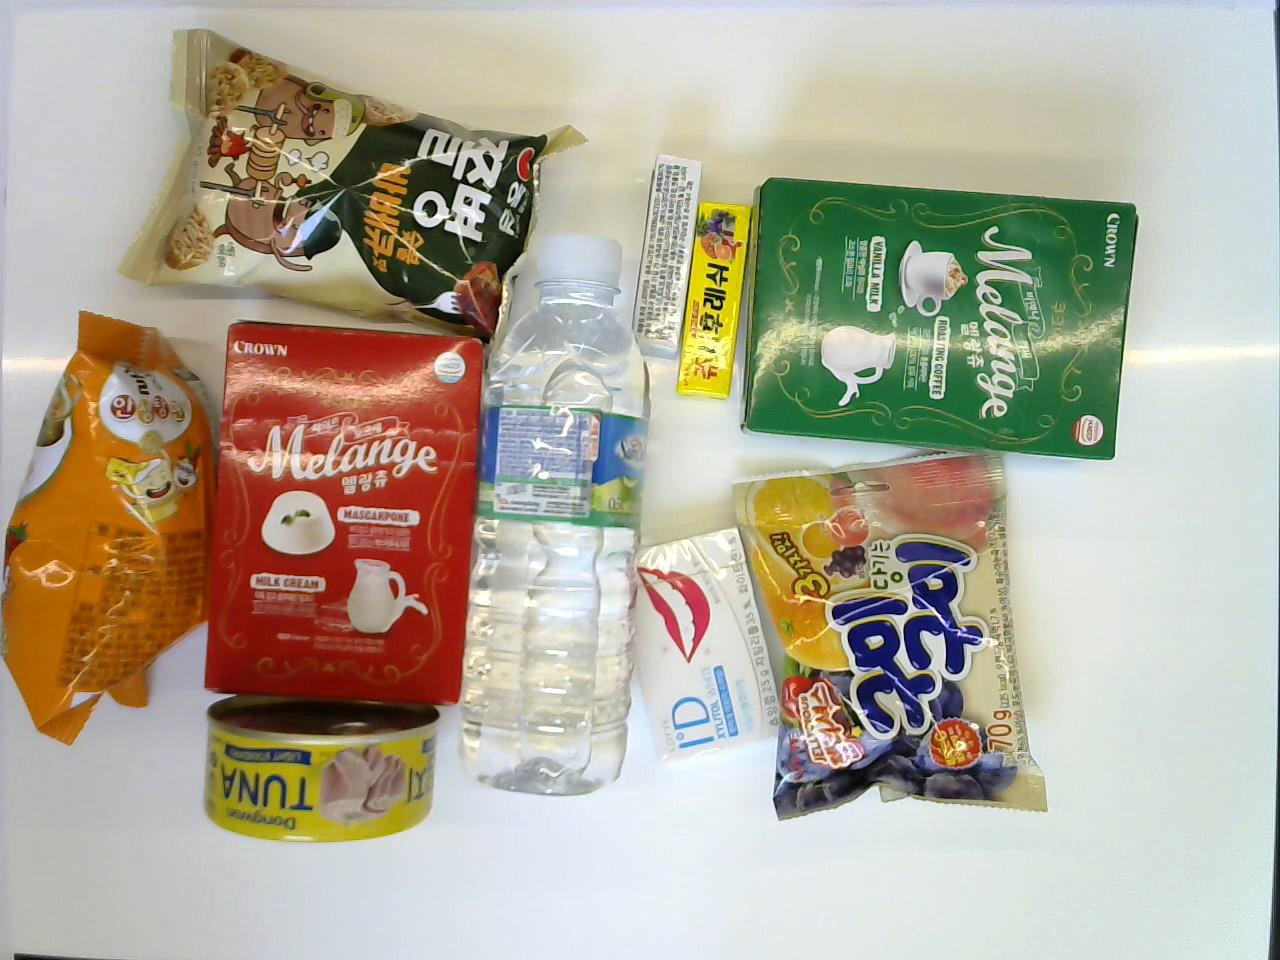ID_gum: (615, 524, 784, 770)
couque_coffee: (739, 174, 1140, 462)
couque_white: (202, 317, 483, 708)
gumi_gumi: (726, 445, 1048, 822)
jjolbyung_noodle: (2, 308, 234, 745)
jjolbyung_ori: (111, 24, 590, 338)
juicyfresh: (671, 199, 756, 398)
samdasu: (450, 233, 650, 795)
spearmint: (630, 150, 703, 357)
tuna: (201, 692, 440, 843)
